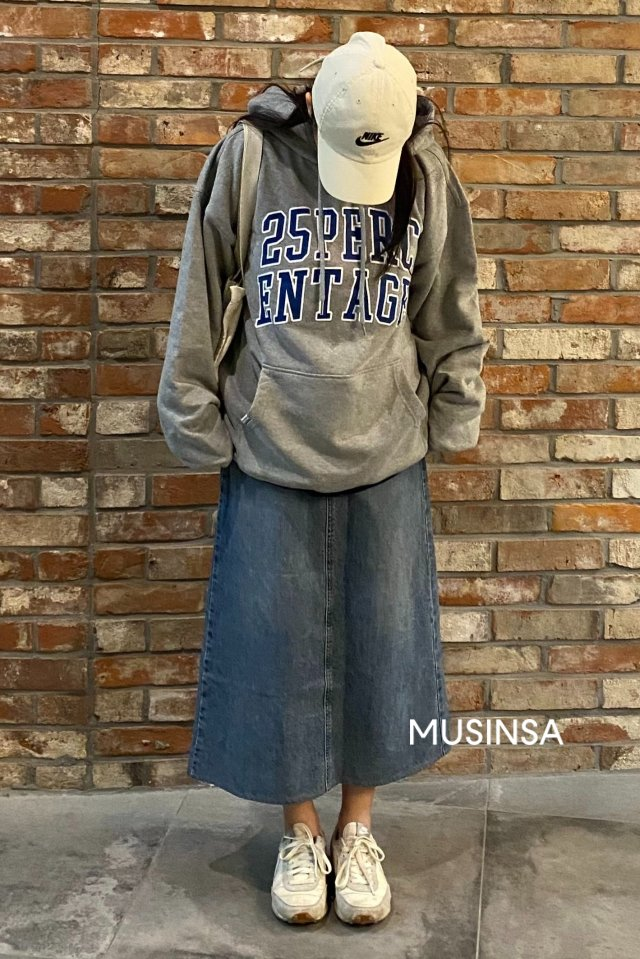Cap: (307, 30, 408, 207)
Hoodie: (164, 75, 499, 478)
Shoes: (266, 826, 407, 924)
Skirt: (193, 460, 469, 805)
